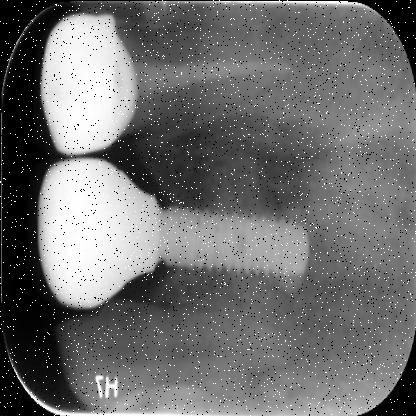ITI: (159, 203, 311, 279)
